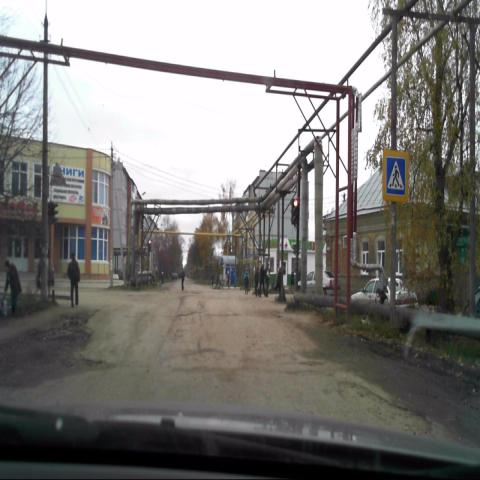5_19_1: (383, 149, 409, 202)
